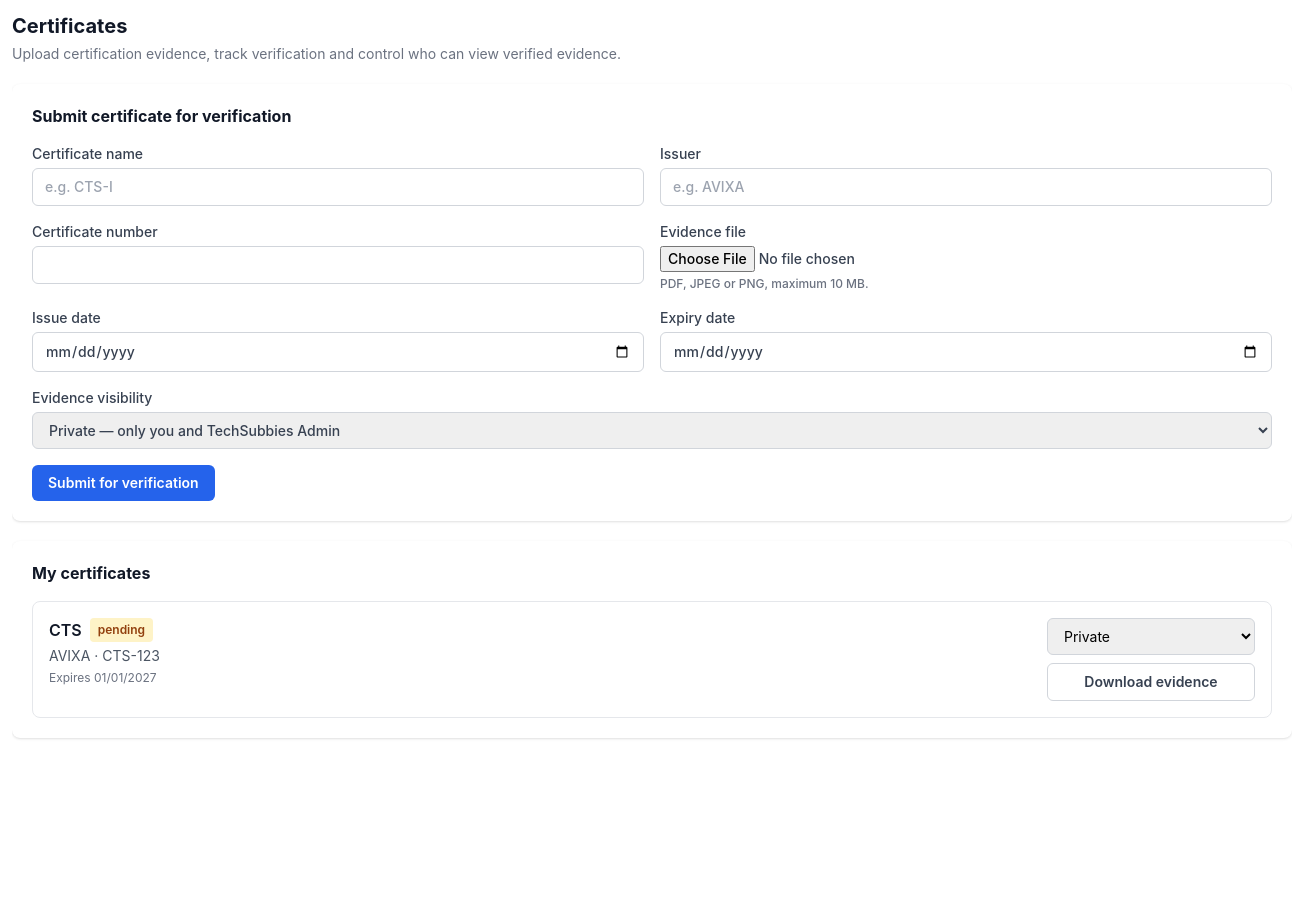
CertificatesView › shows verification status and keeps marketplace visibility gated until approval
Expected: the heading "CTS" is shown, [49,618,82,642]
Expected: the text "pending" is shown, [90,618,153,642]
Select "Marketplace" in the dropdown named "Visibility for CTS" at (1151, 636), box [1047,618,1255,655]
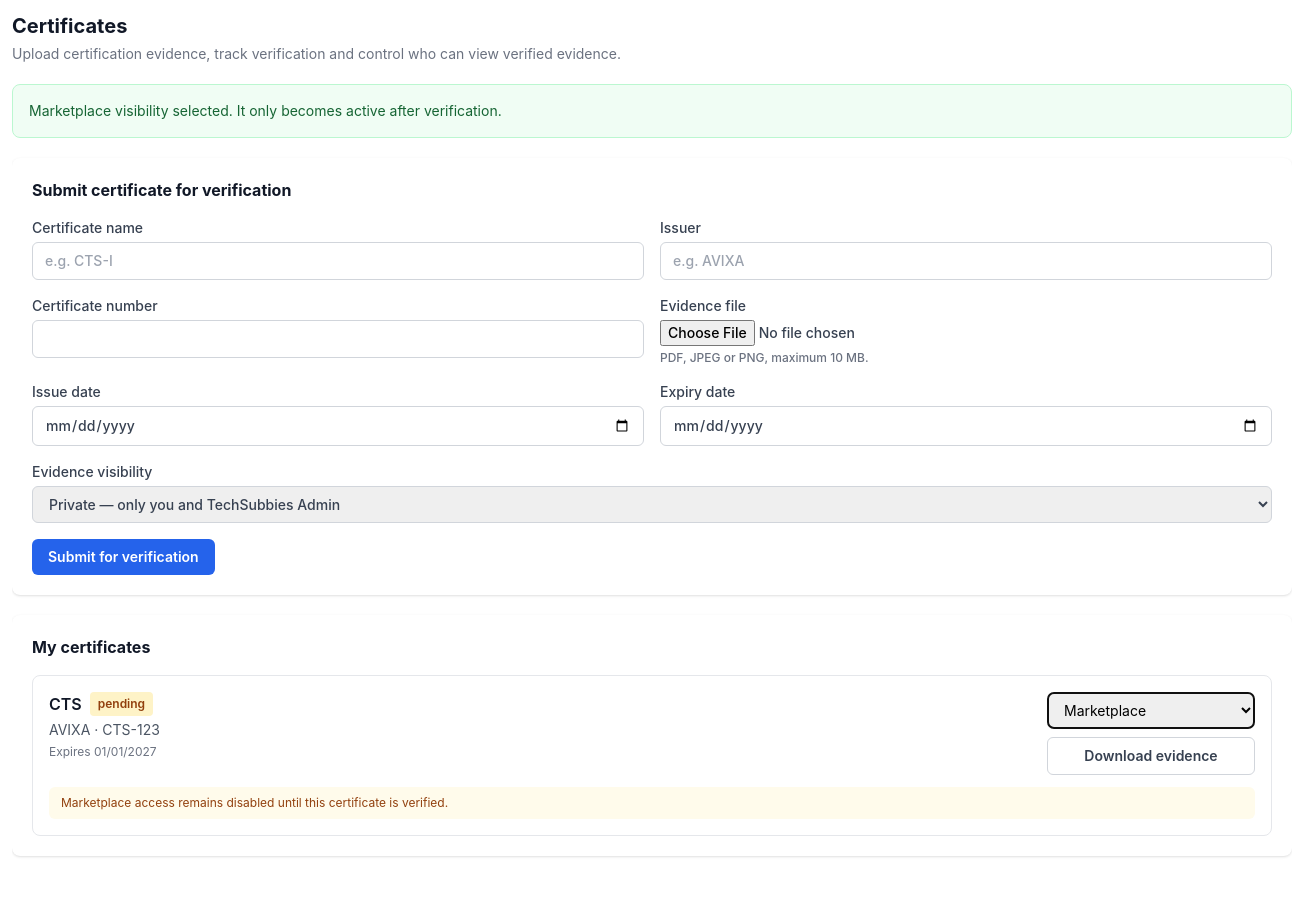
Expected: the text "only becomes active after verification" is shown, [29,102,502,119]
Expected: the text "Marketplace access remains disabled until this certificate is verified" is shown, [61,795,448,810]
